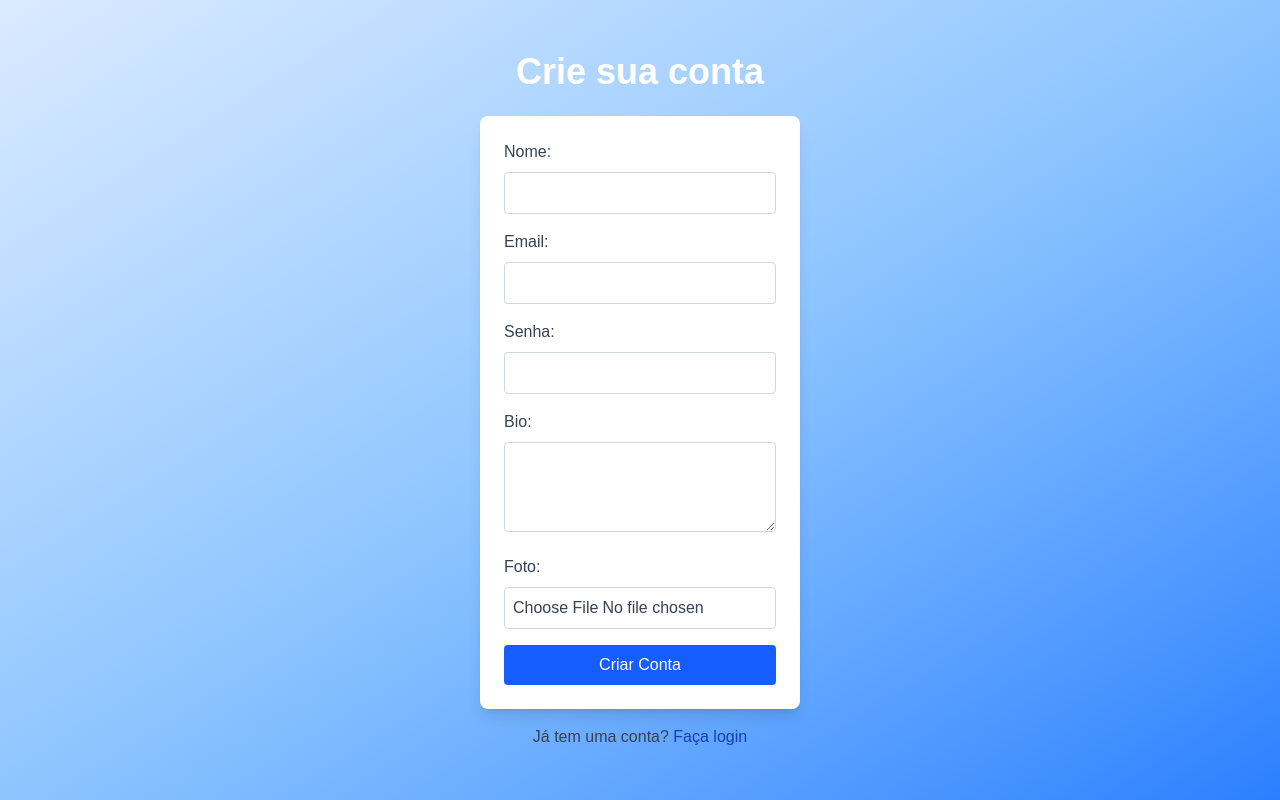
SignupPage › shows an error message when the email is already registered
This screenshot has width=1280, height=800.
Type "Lucas" into the field labelled "Nome:" at (640, 192), box [504, 172, 776, 214]
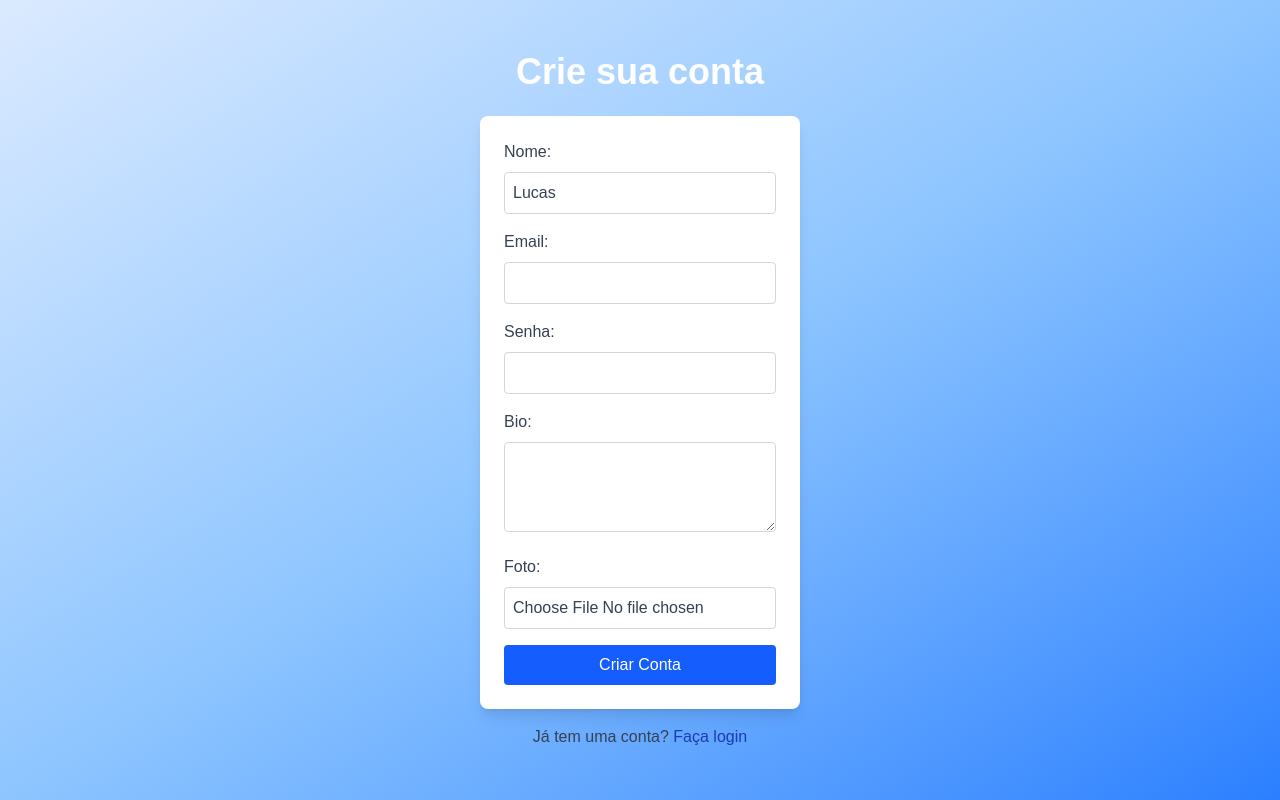
Type "test@example.com" into the field labelled "Email:" at (640, 282), box [504, 262, 776, 304]
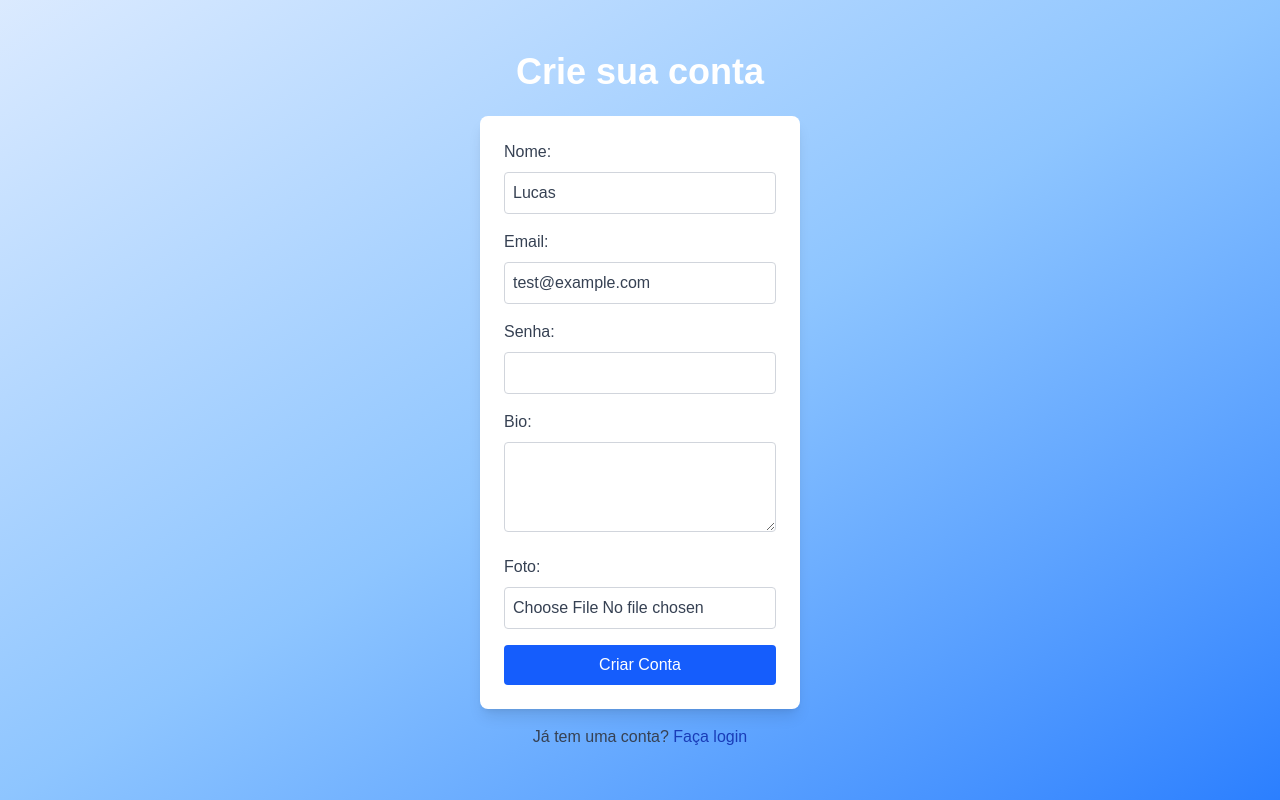
Type "password123" into the password field labelled "Senha:" at (640, 372), box [504, 352, 776, 394]
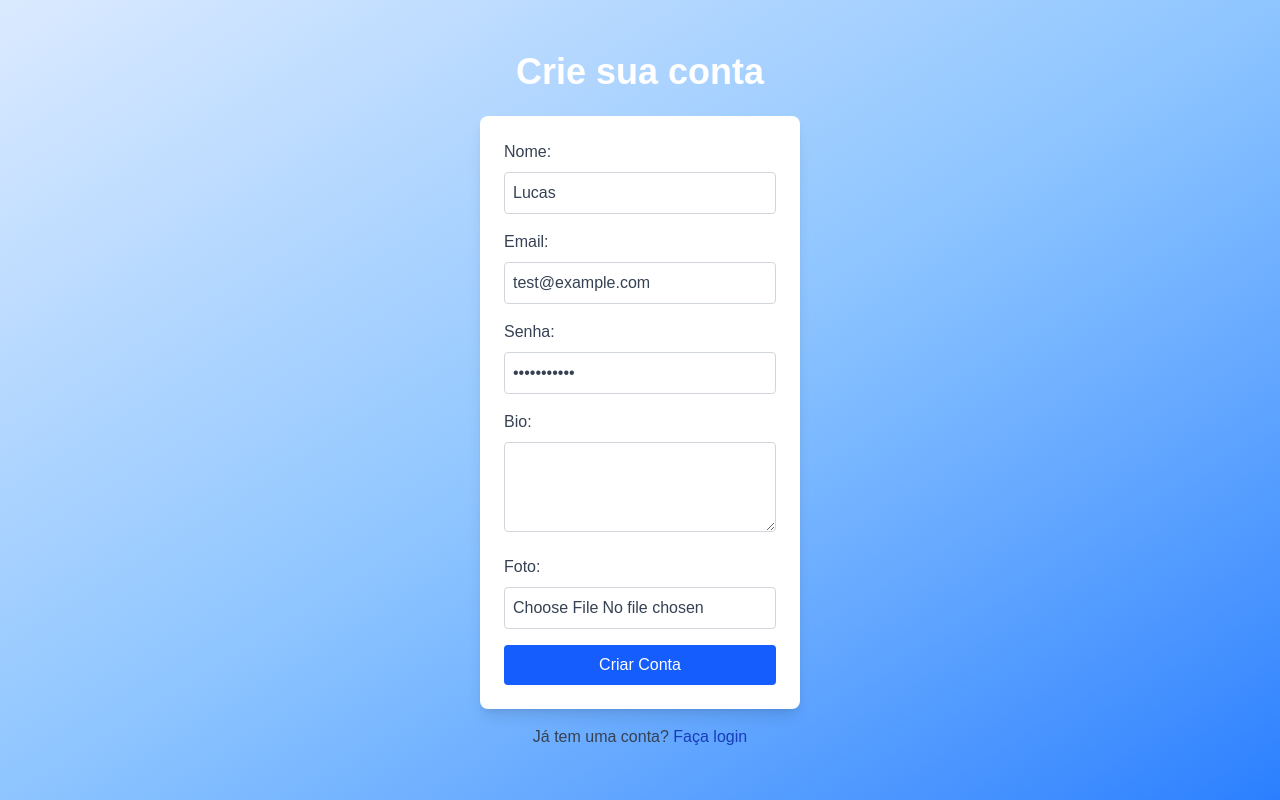
Click the button "Criar Conta" at (640, 664), box [504, 644, 776, 684]
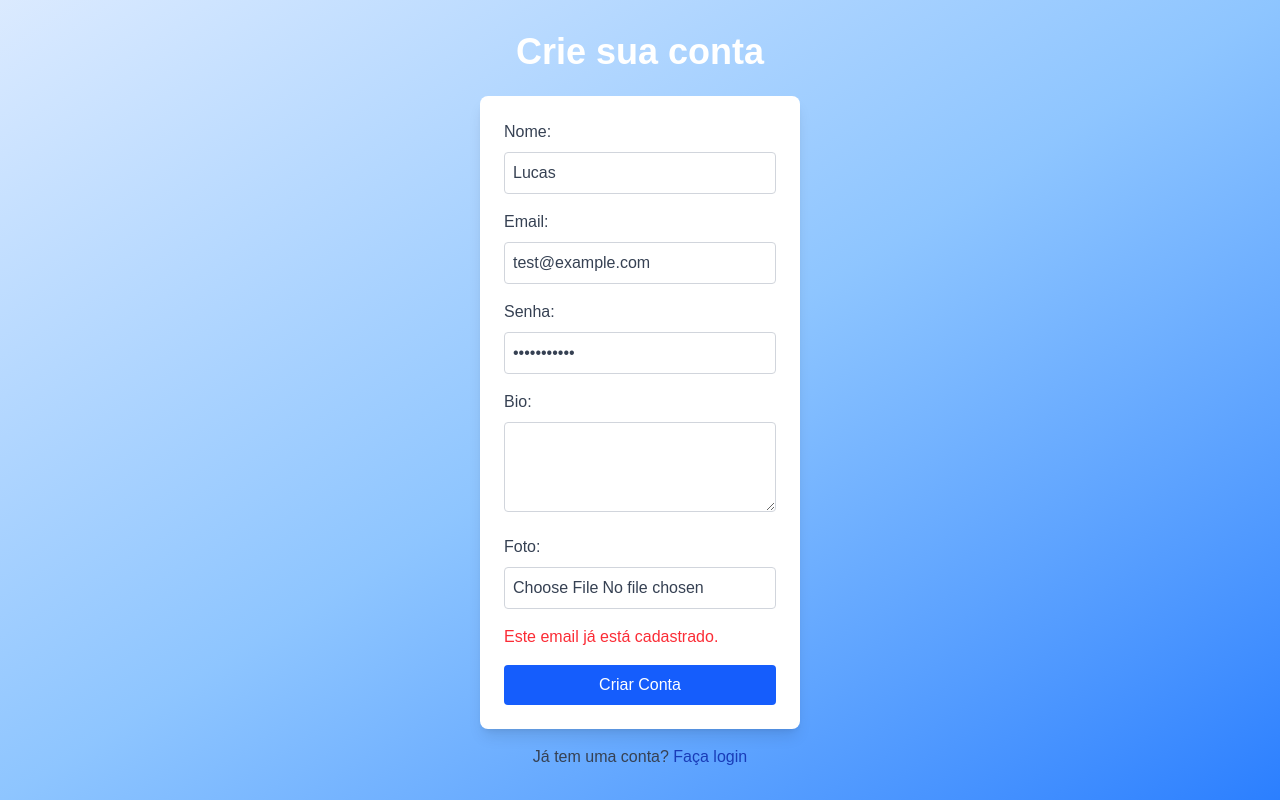
Result: the text "Este email já está cadastrado." is shown at [504, 628, 718, 644]
